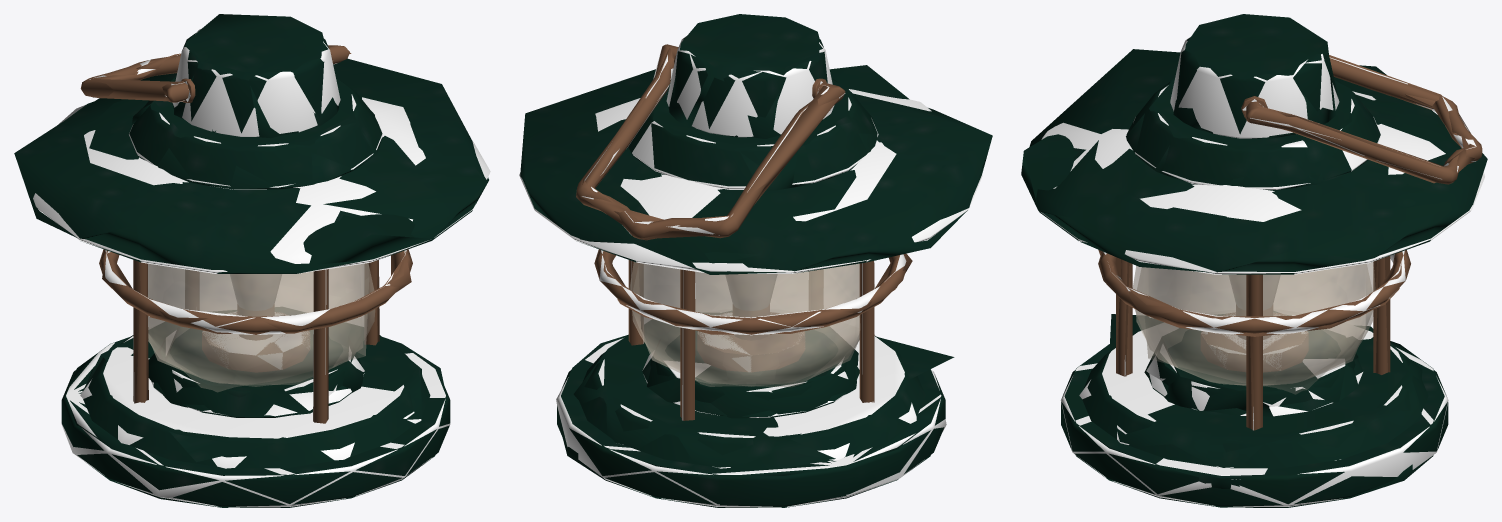
The model's file is pi_lantern01.gltf.
3 renders of one model, left to right at view 1: azimuth 30°, elevation 25°; view 2: azimuth 150°, elevation 25°; view 3: azimuth 270°, elevation 25°, orthographic.
Parts seen in each view (by area): view 1: um_pi_lantern01_model_lod2Shape:pi_lantern01_01, um_pi_lantern01_model_lod0Shape:pi_lantern01_01, um_pi_lantern01_model_lod0Shape:pi_lantern01_shadow_mat, um_pi_lantern01_model_lod1Shape:pi_lantern01_02, um_pi_lantern01_model_lod2Shape:pi_lantern01_02, um_pi_lantern01_model_lod0Shape:pi_lantern01_02, um_pi_lantern01_model_lod0Shape:pi_lantern01_01_lamp; view 2: um_pi_lantern01_model_lod2Shape:pi_lantern01_01, um_pi_lantern01_model_lod0Shape:pi_lantern01_01, um_pi_lantern01_model_lod0Shape:pi_lantern01_shadow_mat, um_pi_lantern01_model_lod1Shape:pi_lantern01_02, um_pi_lantern01_model_lod2Shape:pi_lantern01_02, um_pi_lantern01_model_lod0Shape:pi_lantern01_02, um_pi_lantern01_model_lod0Shape:pi_lantern01_01_lamp; view 3: um_pi_lantern01_model_lod2Shape:pi_lantern01_01, um_pi_lantern01_model_lod0Shape:pi_lantern01_01, um_pi_lantern01_model_lod0Shape:pi_lantern01_shadow_mat, um_pi_lantern01_model_lod2Shape:pi_lantern01_02, um_pi_lantern01_model_lod1Shape:pi_lantern01_02, um_pi_lantern01_model_lod0Shape:pi_lantern01_02, um_pi_lantern01_model_lod0Shape:pi_lantern01_01_lamp.
Boxes of the visible parts, x1,y1,x2,y2 form: um_pi_lantern01_model_lod2Shape:pi_lantern01_01: (14,14,488,507); um_pi_lantern01_model_lod0Shape:pi_lantern01_01: (45,33,472,506); um_pi_lantern01_model_lod0Shape:pi_lantern01_shadow_mat: (33,29,490,507); um_pi_lantern01_model_lod1Shape:pi_lantern01_02: (148,264,363,384); um_pi_lantern01_model_lod2Shape:pi_lantern01_02: (148,263,368,392); um_pi_lantern01_model_lod0Shape:pi_lantern01_02: (148,263,375,386); um_pi_lantern01_model_lod0Shape:pi_lantern01_01_lamp: (230,274,281,340); um_pi_lantern01_model_lod2Shape:pi_lantern01_01: (520,14,992,507); um_pi_lantern01_model_lod0Shape:pi_lantern01_01: (557,37,945,506); um_pi_lantern01_model_lod0Shape:pi_lantern01_shadow_mat: (519,36,982,507); um_pi_lantern01_model_lod1Shape:pi_lantern01_02: (629,262,875,384); um_pi_lantern01_model_lod2Shape:pi_lantern01_02: (639,263,859,386); um_pi_lantern01_model_lod0Shape:pi_lantern01_02: (632,263,859,386); um_pi_lantern01_model_lod0Shape:pi_lantern01_01_lamp: (725,274,777,340); um_pi_lantern01_model_lod2Shape:pi_lantern01_01: (1021,14,1487,507); um_pi_lantern01_model_lod0Shape:pi_lantern01_01: (1038,37,1482,506); um_pi_lantern01_model_lod0Shape:pi_lantern01_shadow_mat: (1039,37,1484,507); um_pi_lantern01_model_lod2Shape:pi_lantern01_02: (1145,264,1366,394); um_pi_lantern01_model_lod1Shape:pi_lantern01_02: (1133,262,1375,385); um_pi_lantern01_model_lod0Shape:pi_lantern01_02: (1136,264,1373,385); um_pi_lantern01_model_lod0Shape:pi_lantern01_01_lamp: (1229,275,1280,339).
Size of the model in its own units: 0.2921 by 0.267 by 0.2916.
Materials: 4 (3 with a texture image).
